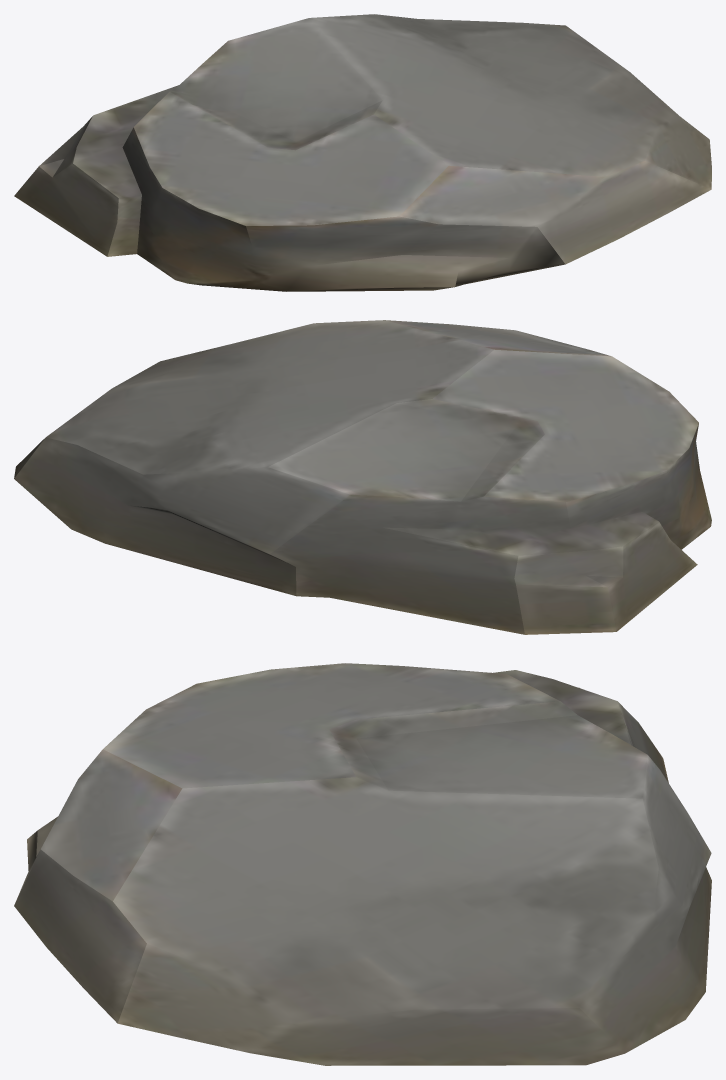
Rendered from arenito.glb.
The picture shows the model from 3 angles, top to bottom: view 1: azimuth 30°, elevation 25°; view 2: azimuth 150°, elevation 25°; view 3: azimuth 270°, elevation 25°; orthographic projection. The views are drawn at different scales.
Size of the model in its own units: 4.57 by 0.7216 by 3.72.
Materials: 1 (1 with a texture image).
